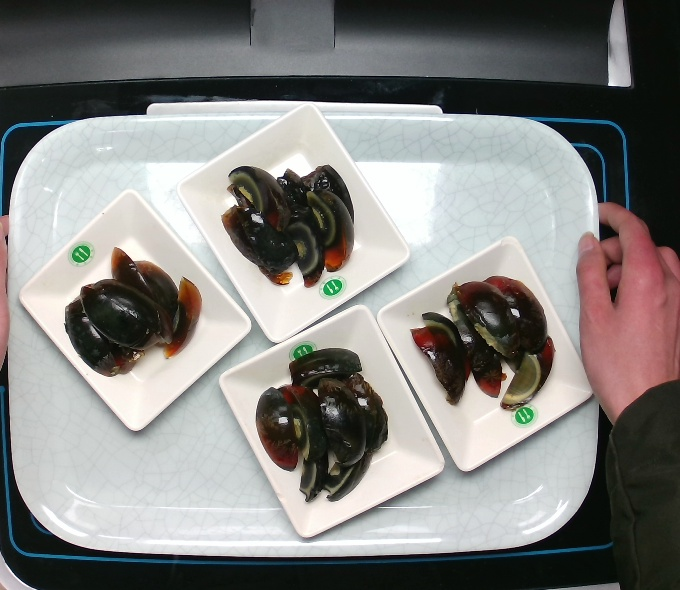wcq-PiDan: (242, 336, 393, 507), (45, 232, 208, 381), (404, 266, 562, 418), (216, 152, 369, 292)
